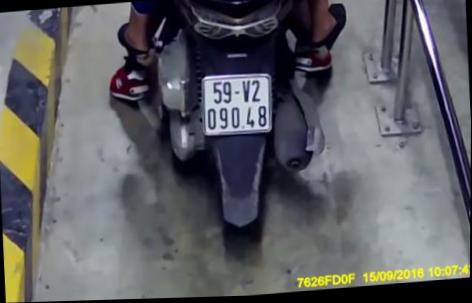LP: (198, 70, 275, 139)
